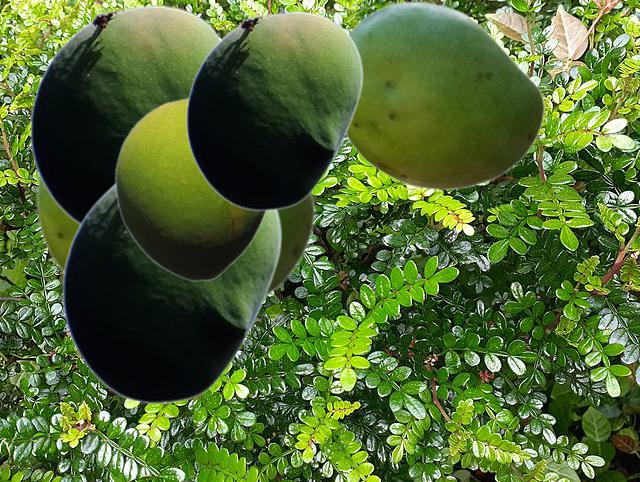green_mango: (61, 183, 282, 403), (29, 4, 222, 225), (346, 0, 544, 190), (35, 168, 315, 298), (185, 10, 363, 210), (114, 96, 269, 281)
